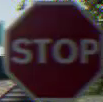Stop: (6, 4, 98, 90)
